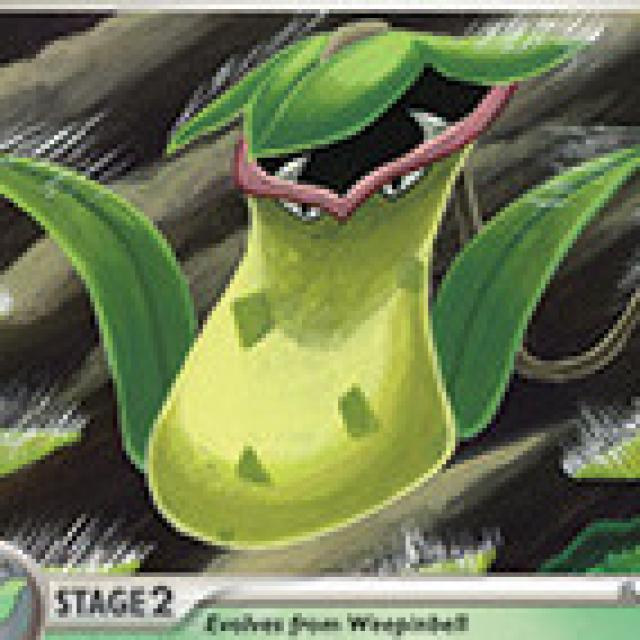Victreebel: (87, 12, 558, 530)
